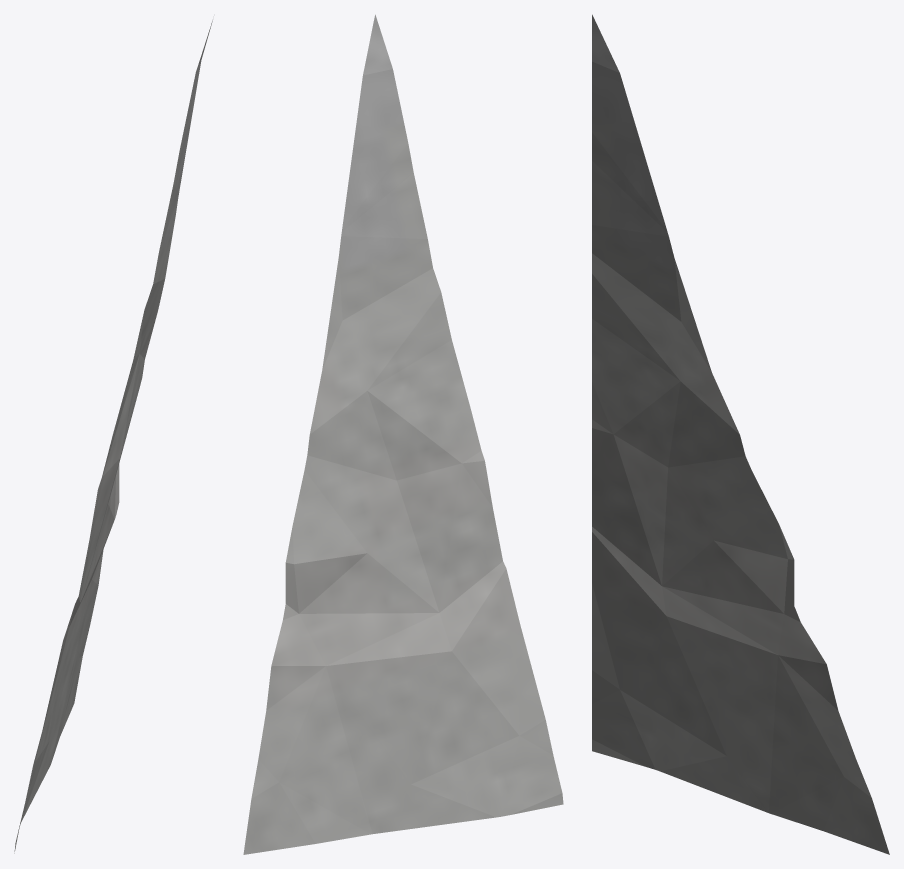
3 views of the same model, side by side, from view 1: azimuth 30°, elevation 25°; view 2: azimuth 150°, elevation 25°; view 3: azimuth 270°, elevation 25° (orthographic). The views are drawn at different scales.
Bounding box in the file's own units: 0.0811 × 0.3063 × 0.0983.
Materials: 1 (1 with a texture image).
